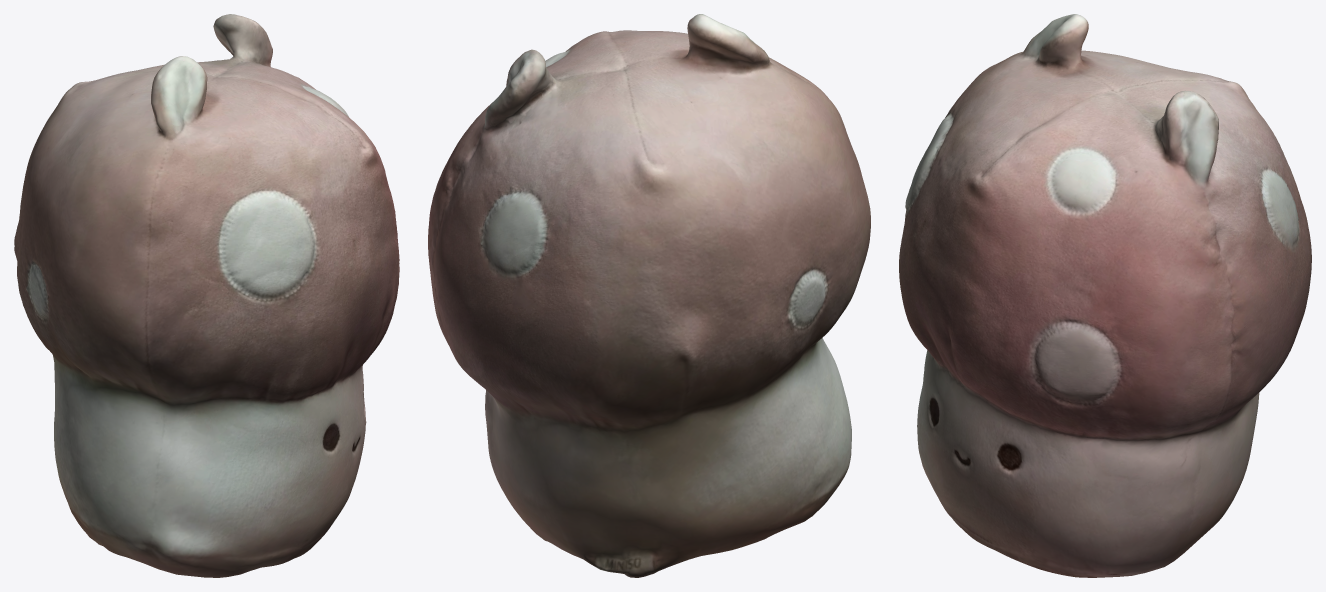
File: mushroom-toy.glb
The picture shows the model from 3 angles, left to right: view 1: azimuth 30°, elevation 25°; view 2: azimuth 150°, elevation 25°; view 3: azimuth 270°, elevation 25°; orthographic projection. The views are drawn at different scales.
Visible parts, largest first — view 1: 3DModel; view 2: 3DModel; view 3: 3DModel.
Part boxes in pixels (x1,y1,x2,y2): 3DModel: (14, 14, 399, 577); 3DModel: (428, 14, 870, 577); 3DModel: (899, 14, 1311, 577).
Size of the model in its own units: 0.1877 by 0.26 by 0.1922.
1 material, 1 textured.
